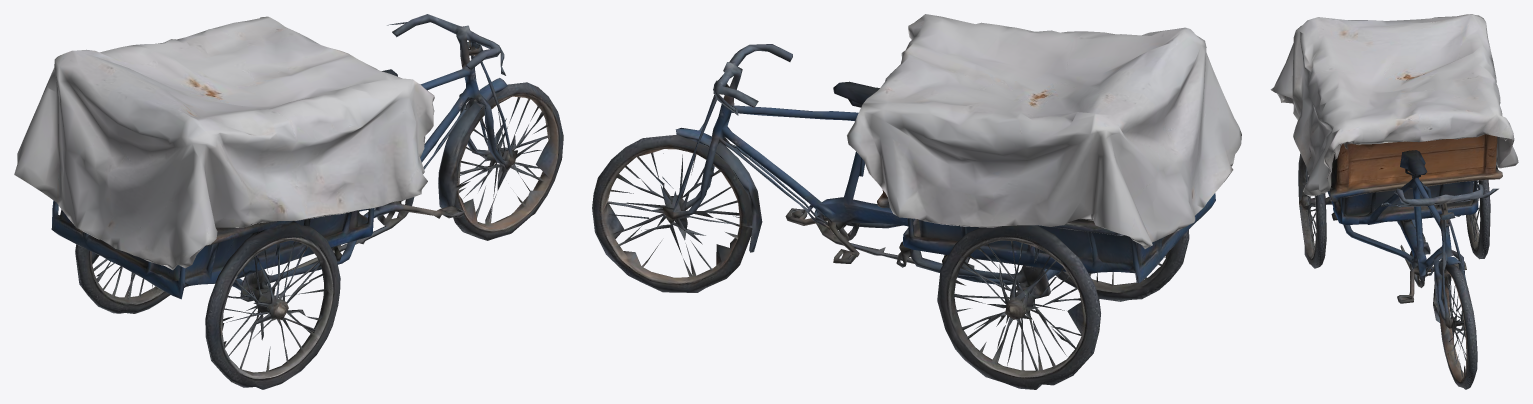
Rendered from tricycle.glb.
3 renders of one model, left to right at view 1: azimuth 30°, elevation 25°; view 2: azimuth 150°, elevation 25°; view 3: azimuth 270°, elevation 25°, orthographic. The views are drawn at different scales.
Parts seen in each view (by area): view 1: tripo_node_5f518052-2111-4efc-af28-45b3155623f6; view 2: tripo_node_5f518052-2111-4efc-af28-45b3155623f6; view 3: tripo_node_5f518052-2111-4efc-af28-45b3155623f6.
Boxes of the visible parts, x1,y1,x2,y2 form: tripo_node_5f518052-2111-4efc-af28-45b3155623f6: (14, 14, 563, 389); tripo_node_5f518052-2111-4efc-af28-45b3155623f6: (592, 14, 1241, 389); tripo_node_5f518052-2111-4efc-af28-45b3155623f6: (1270, 14, 1518, 389).
Size of the model in its own units: 2.3 by 1.15 by 1.19.
1 material, 1 textured.
